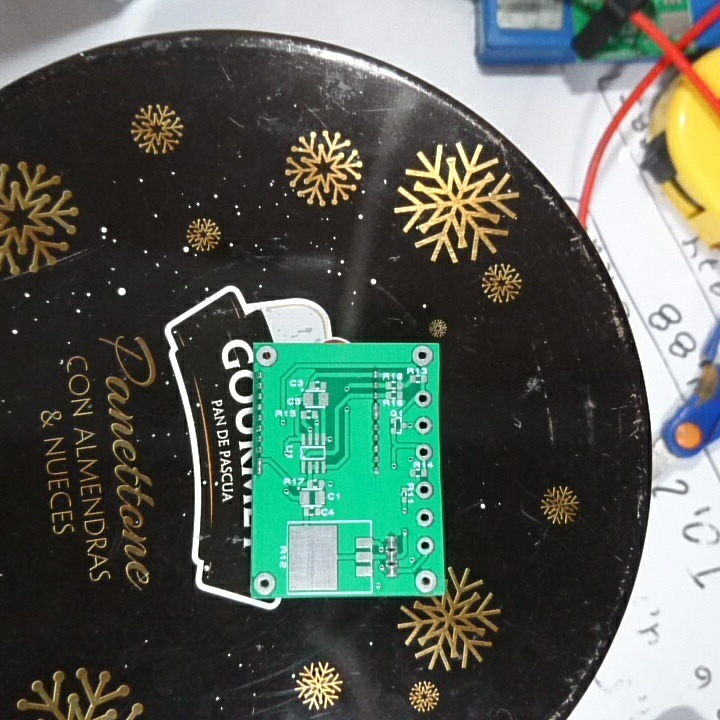F: (413, 568, 439, 594), (410, 344, 436, 369), (412, 505, 437, 531), (253, 569, 278, 595), (256, 344, 279, 368), (413, 387, 435, 410), (413, 479, 436, 501), (414, 536, 437, 557), (413, 415, 434, 437), (413, 441, 434, 461)
P: (253, 457, 266, 479), (370, 401, 381, 423)
